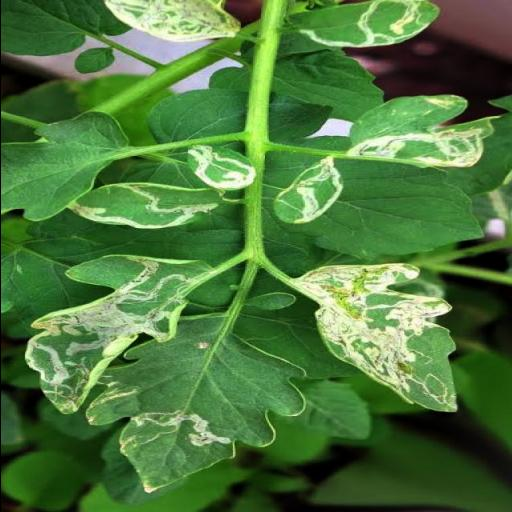Leaf Miner: (85, 314, 305, 496), (21, 255, 216, 415), (290, 262, 466, 414), (342, 96, 496, 170), (286, 0, 442, 48), (68, 182, 222, 230), (100, 0, 244, 42), (268, 156, 350, 225), (186, 144, 258, 192)
